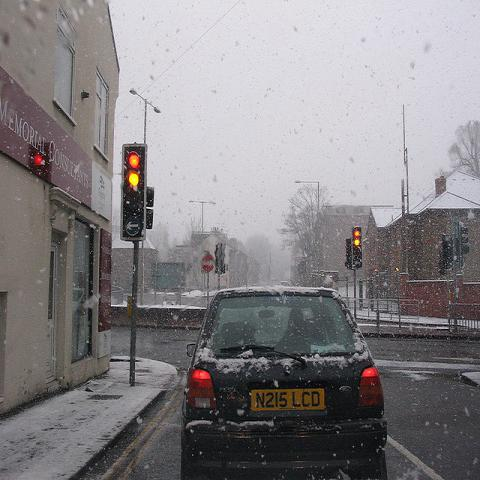car: (172, 283, 393, 472)
